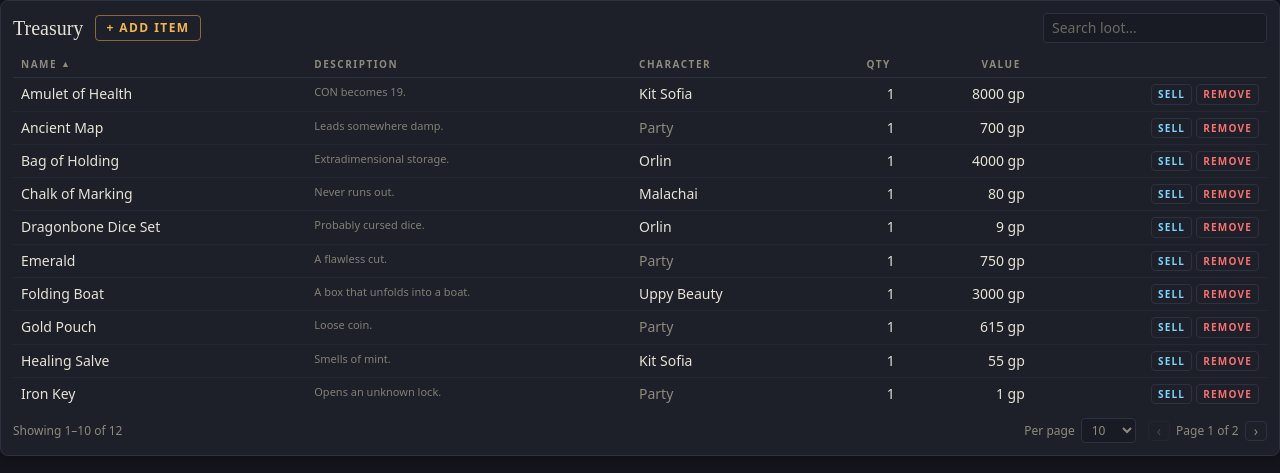
it: LootTable — rendering and pagination › pages forward and back, disabling the pager at the bounds
The width and height of the screenshot is (1280, 473).
Expected: the button with test id "loot-prev" is disabled, [1148,421,1170,441]
Click the button with test id "loot-next" at (1256, 431), box [1245,421,1267,441]
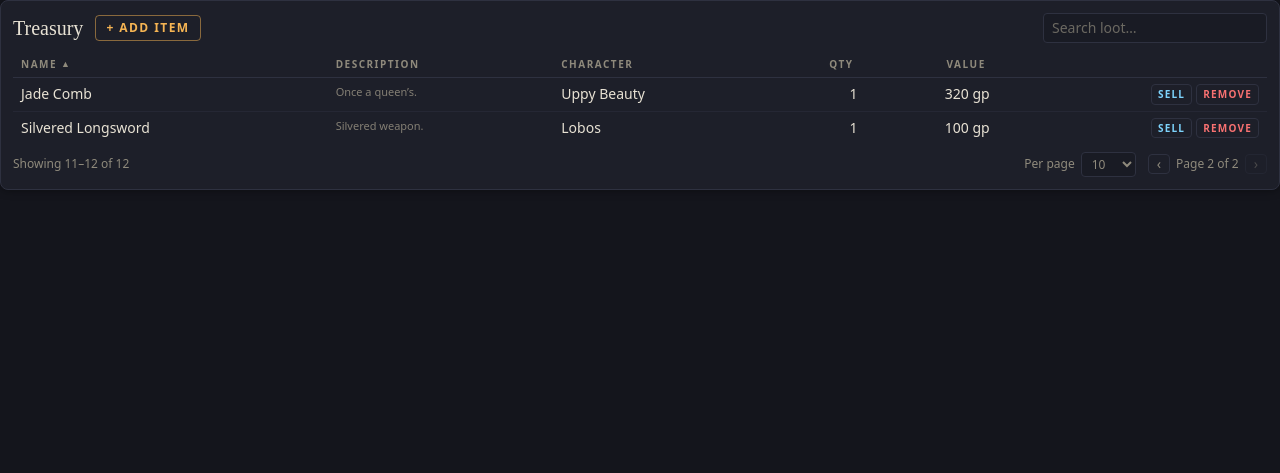
Expected: the text with test id "loot-page-info" reads "Page 2 of 2", [1176,155,1239,172]
Expected: the number of rows with test id "loot-row" is 2, [13,78,1267,111]; [13,111,1267,144]
Expected: the text with test id "loot-range" reads "Showing 11–12 of 12", [13,155,129,172]
Click the button with test id "loot-prev" at (1159, 164), box [1148,154,1170,174]
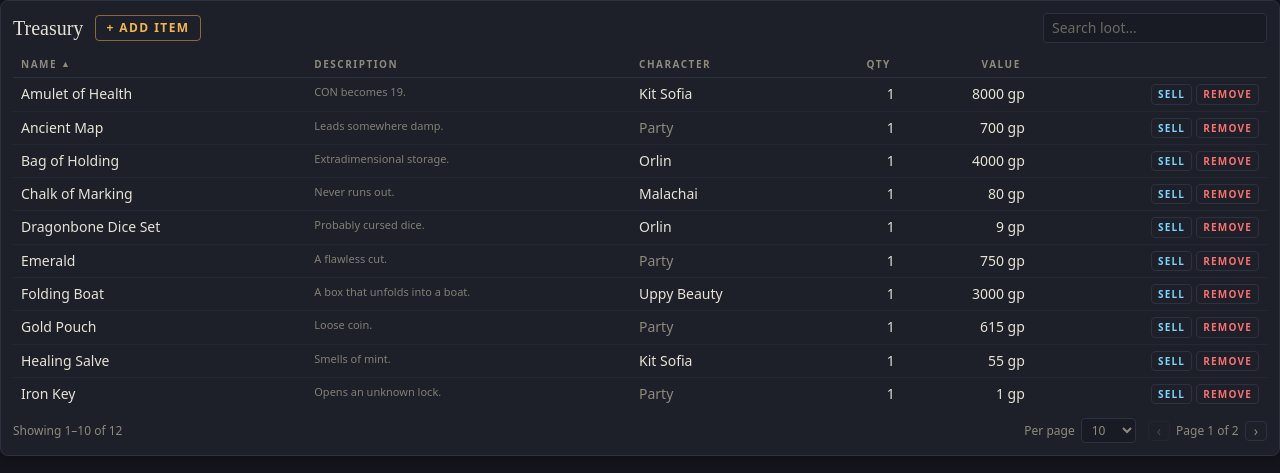
Expected: the text with test id "loot-page-info" reads "Page 1 of 2", [1176,422,1239,439]
